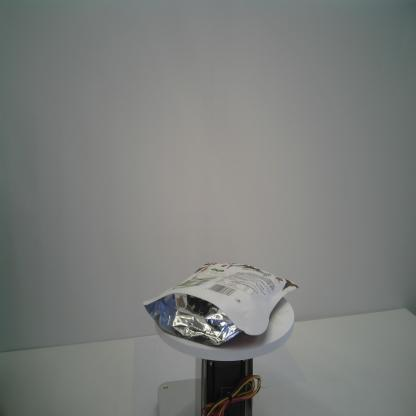Dried Fruit: (141, 260, 300, 346)
